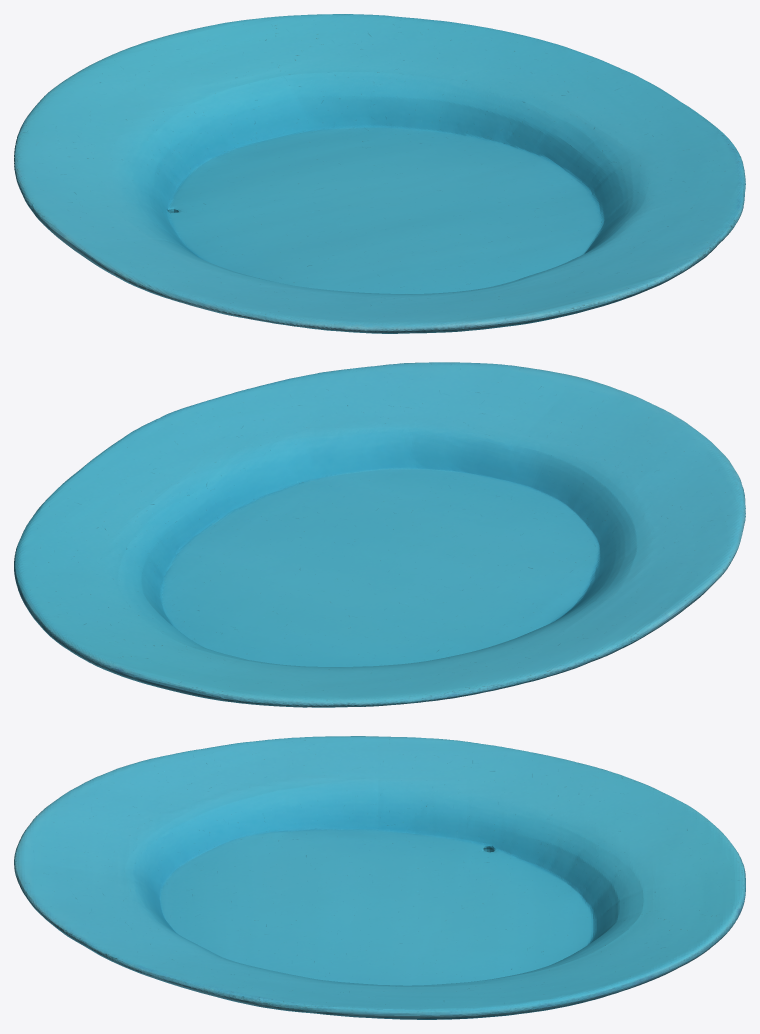
Rendered from object_mesh_scaled_final_textured.glb.
3 views of the same model, one above another, from view 1: azimuth 30°, elevation 25°; view 2: azimuth 150°, elevation 25°; view 3: azimuth 270°, elevation 25° (orthographic). The views are drawn at different scales.
Parts seen in each view (by area): view 1: world; view 2: world; view 3: world.
Boxes of the visible parts, left/top/right/bottom form: world: left=14, top=14, right=745, bottom=333; world: left=14, top=362, right=745, bottom=707; world: left=14, top=736, right=745, bottom=1019.
Bounding box in the file's own units: 0.2096 × 0.033 × 0.24.
1 material, 1 textured.
